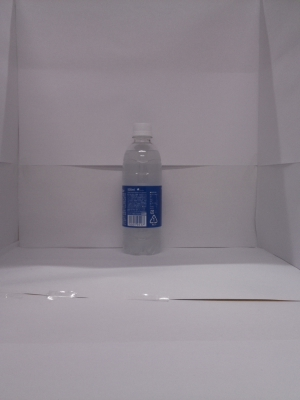ポカリスエット: (114, 119, 174, 262)
